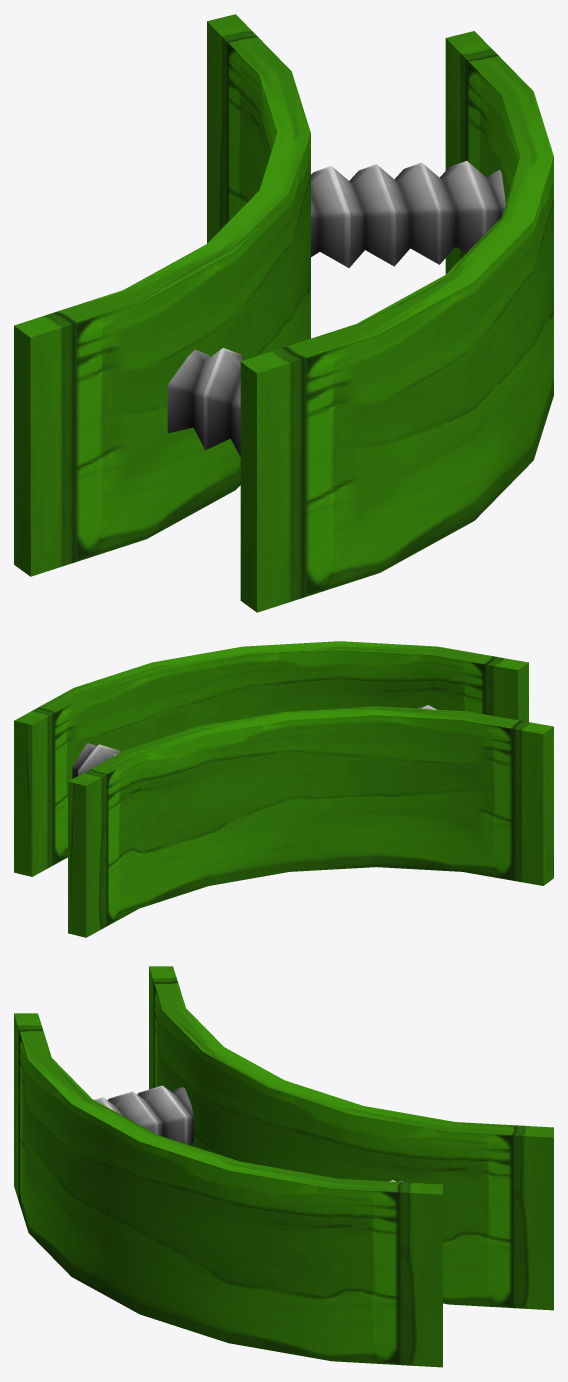
Rendered from arched_fence_green_02.fbx.
3 views of the same model, one above another, from view 1: azimuth 30°, elevation 25°; view 2: azimuth 150°, elevation 25°; view 3: azimuth 270°, elevation 25° (orthographic). The views are drawn at different scales.
Parts seen in each view (by area): view 1: arched_fence_green_02; view 2: arched_fence_green_02; view 3: arched_fence_green_02.
Boxes of the visible parts, x1=… form: arched_fence_green_02: x1=14, y1=14, x2=553, y2=612; arched_fence_green_02: x1=14, y1=641, x2=553, y2=937; arched_fence_green_02: x1=14, y1=966, x2=553, y2=1367.
Size of the model in its own units: 113 by 40 by 113.
